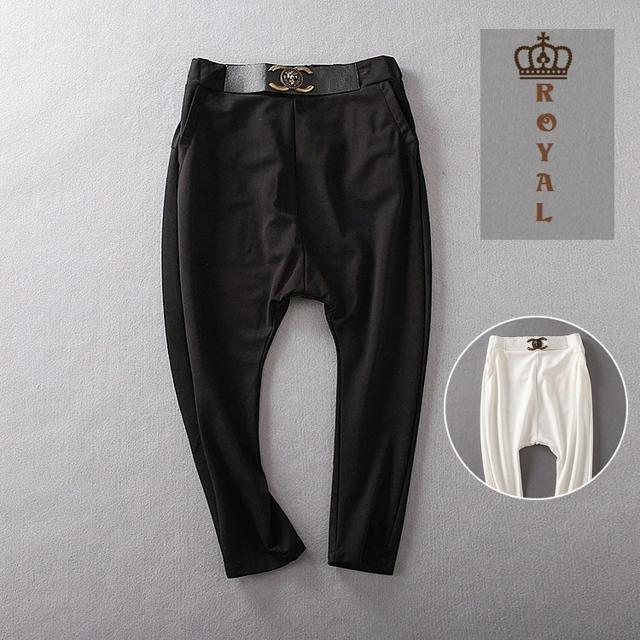Pants_Leggings: (160, 56, 434, 581), (481, 334, 594, 496)
